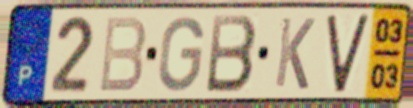2: (47, 14, 98, 97)
B: (204, 13, 260, 96), (96, 15, 149, 95)
G: (156, 14, 206, 94)
K: (272, 15, 317, 93)
V: (324, 11, 372, 96)
